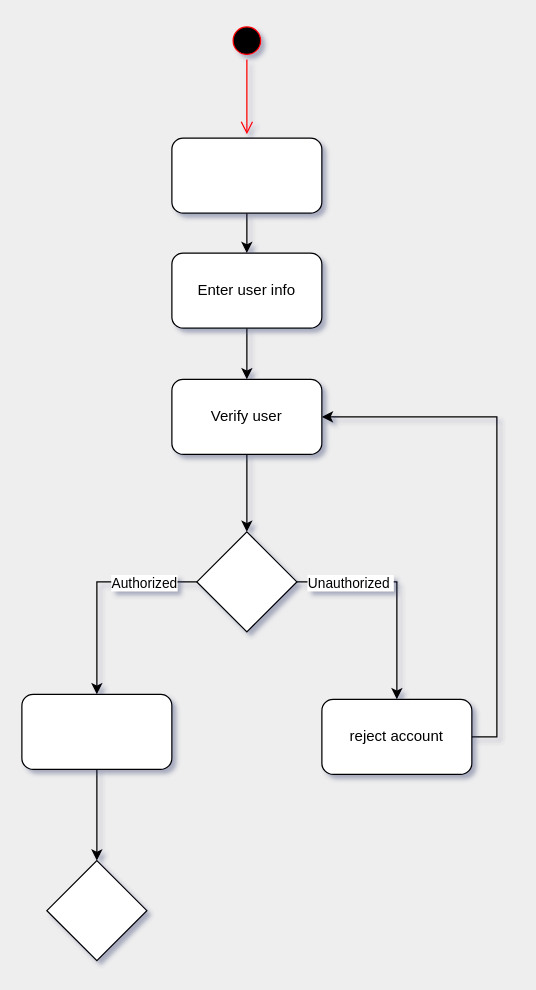
The diagram is 536 pixels wide and 990 high, and some of its shapes have lost their labels. Each missing label, with the centre of its shape:
"Ask to create account" belongs at (246,175).
"create account" belongs at (96,731).
